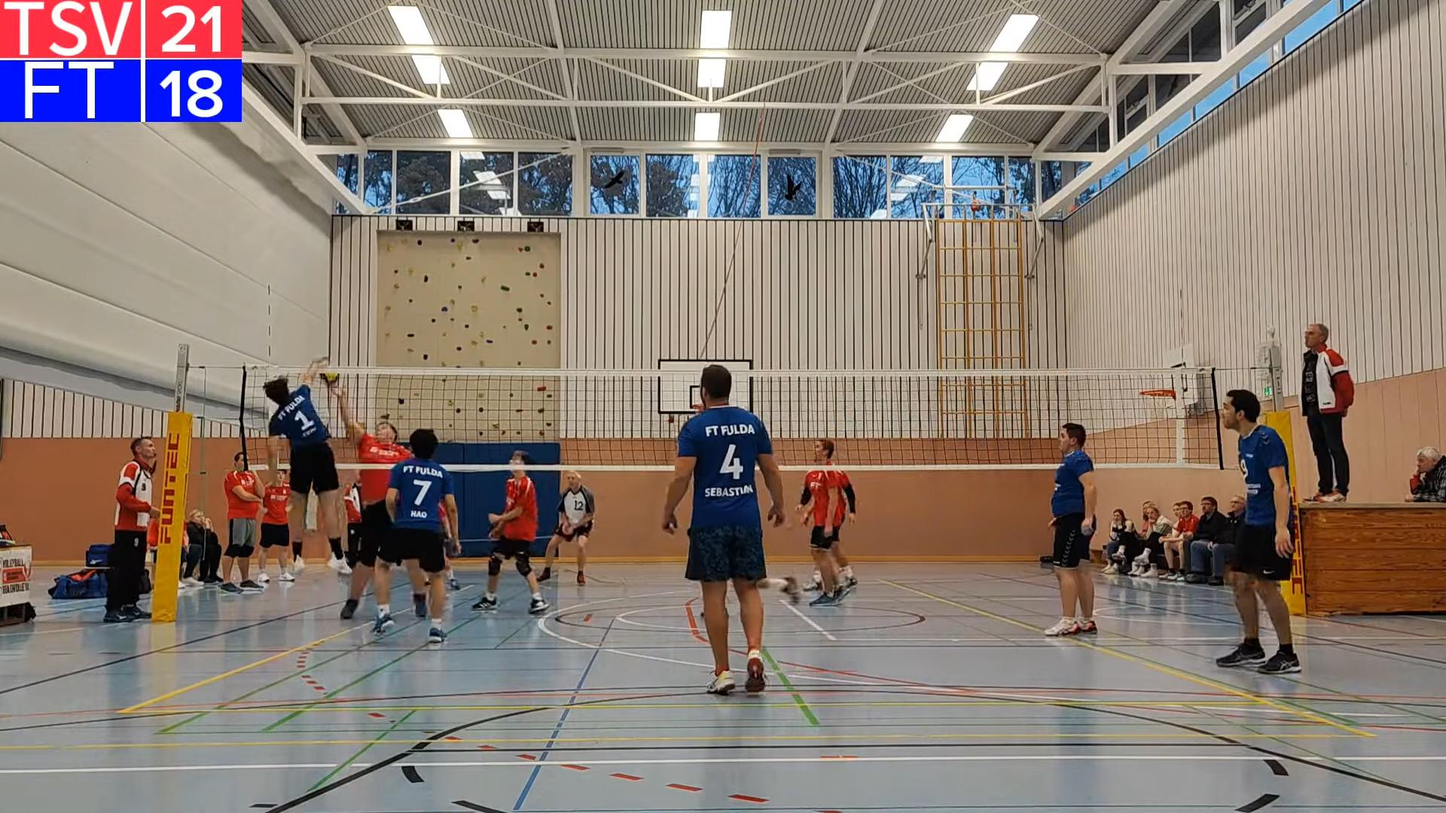attacco: (254, 355, 351, 584)
